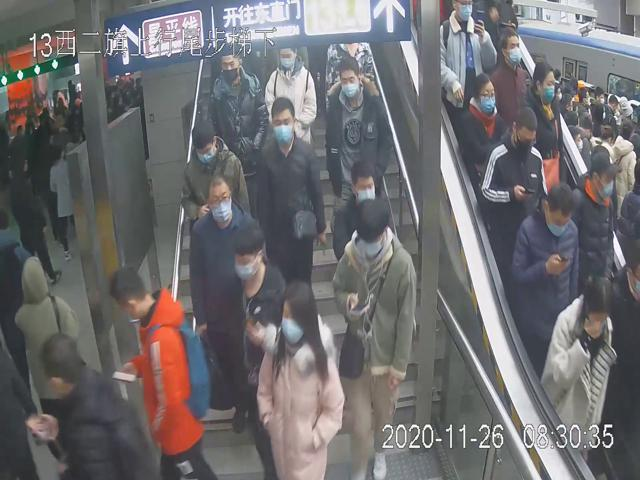person: (330, 200, 418, 480), (187, 173, 268, 436), (255, 280, 344, 480), (232, 220, 294, 478), (538, 270, 619, 461), (255, 97, 327, 293), (510, 183, 582, 362), (479, 105, 550, 258), (325, 56, 391, 200), (179, 117, 252, 241), (331, 157, 396, 264), (209, 51, 269, 162), (263, 43, 317, 148), (456, 70, 506, 176)
